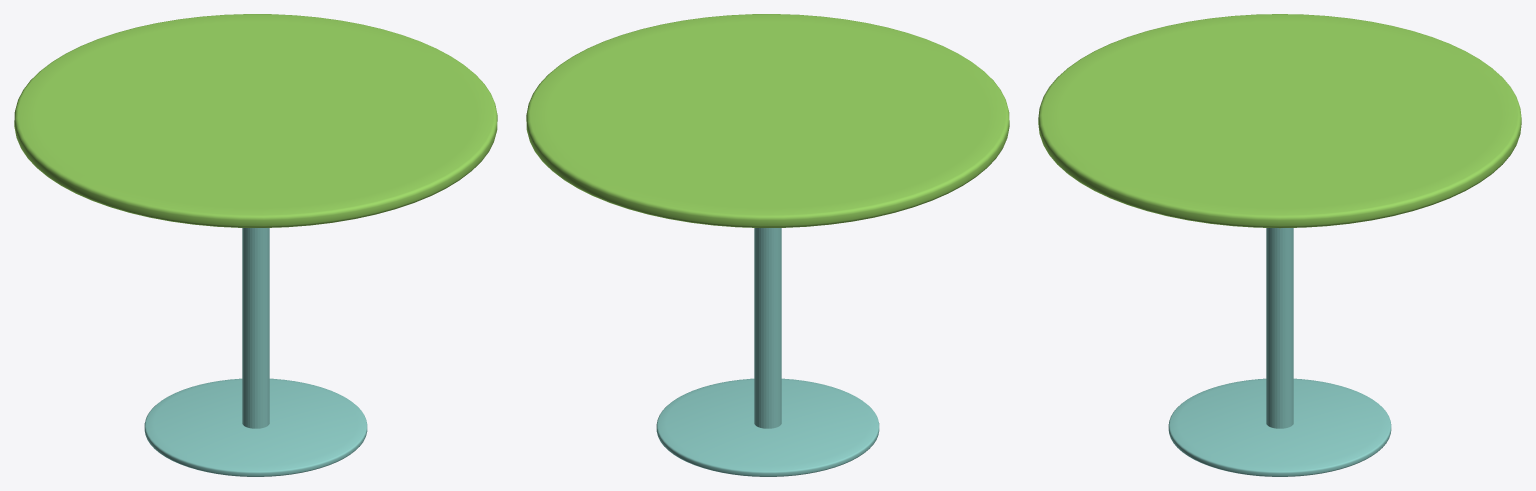
The model's file is table_9.glb.
3 views of the same model, side by side, from view 1: azimuth 30°, elevation 25°; view 2: azimuth 150°, elevation 25°; view 3: azimuth 270°, elevation 25° (orthographic).
Parts seen in each view (by area): view 1: table_9.022; view 2: table_9.022; view 3: table_9.022.
Part boxes in pixels (bbox=[...]): table_9.022: bbox=[14, 14, 497, 476]; table_9.022: bbox=[526, 14, 1009, 476]; table_9.022: bbox=[1038, 14, 1521, 476].
Size of the model in its own units: 0.7246 by 0.5222 by 0.7246.
